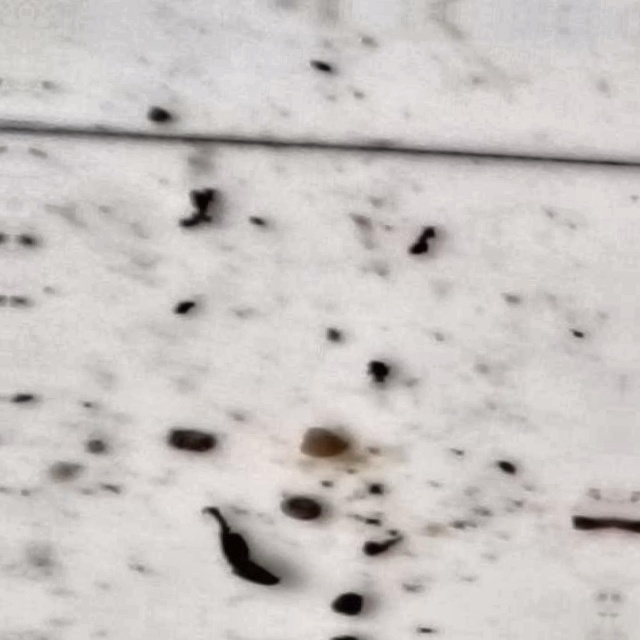varroa: (163, 423, 217, 455), (278, 494, 330, 522)
